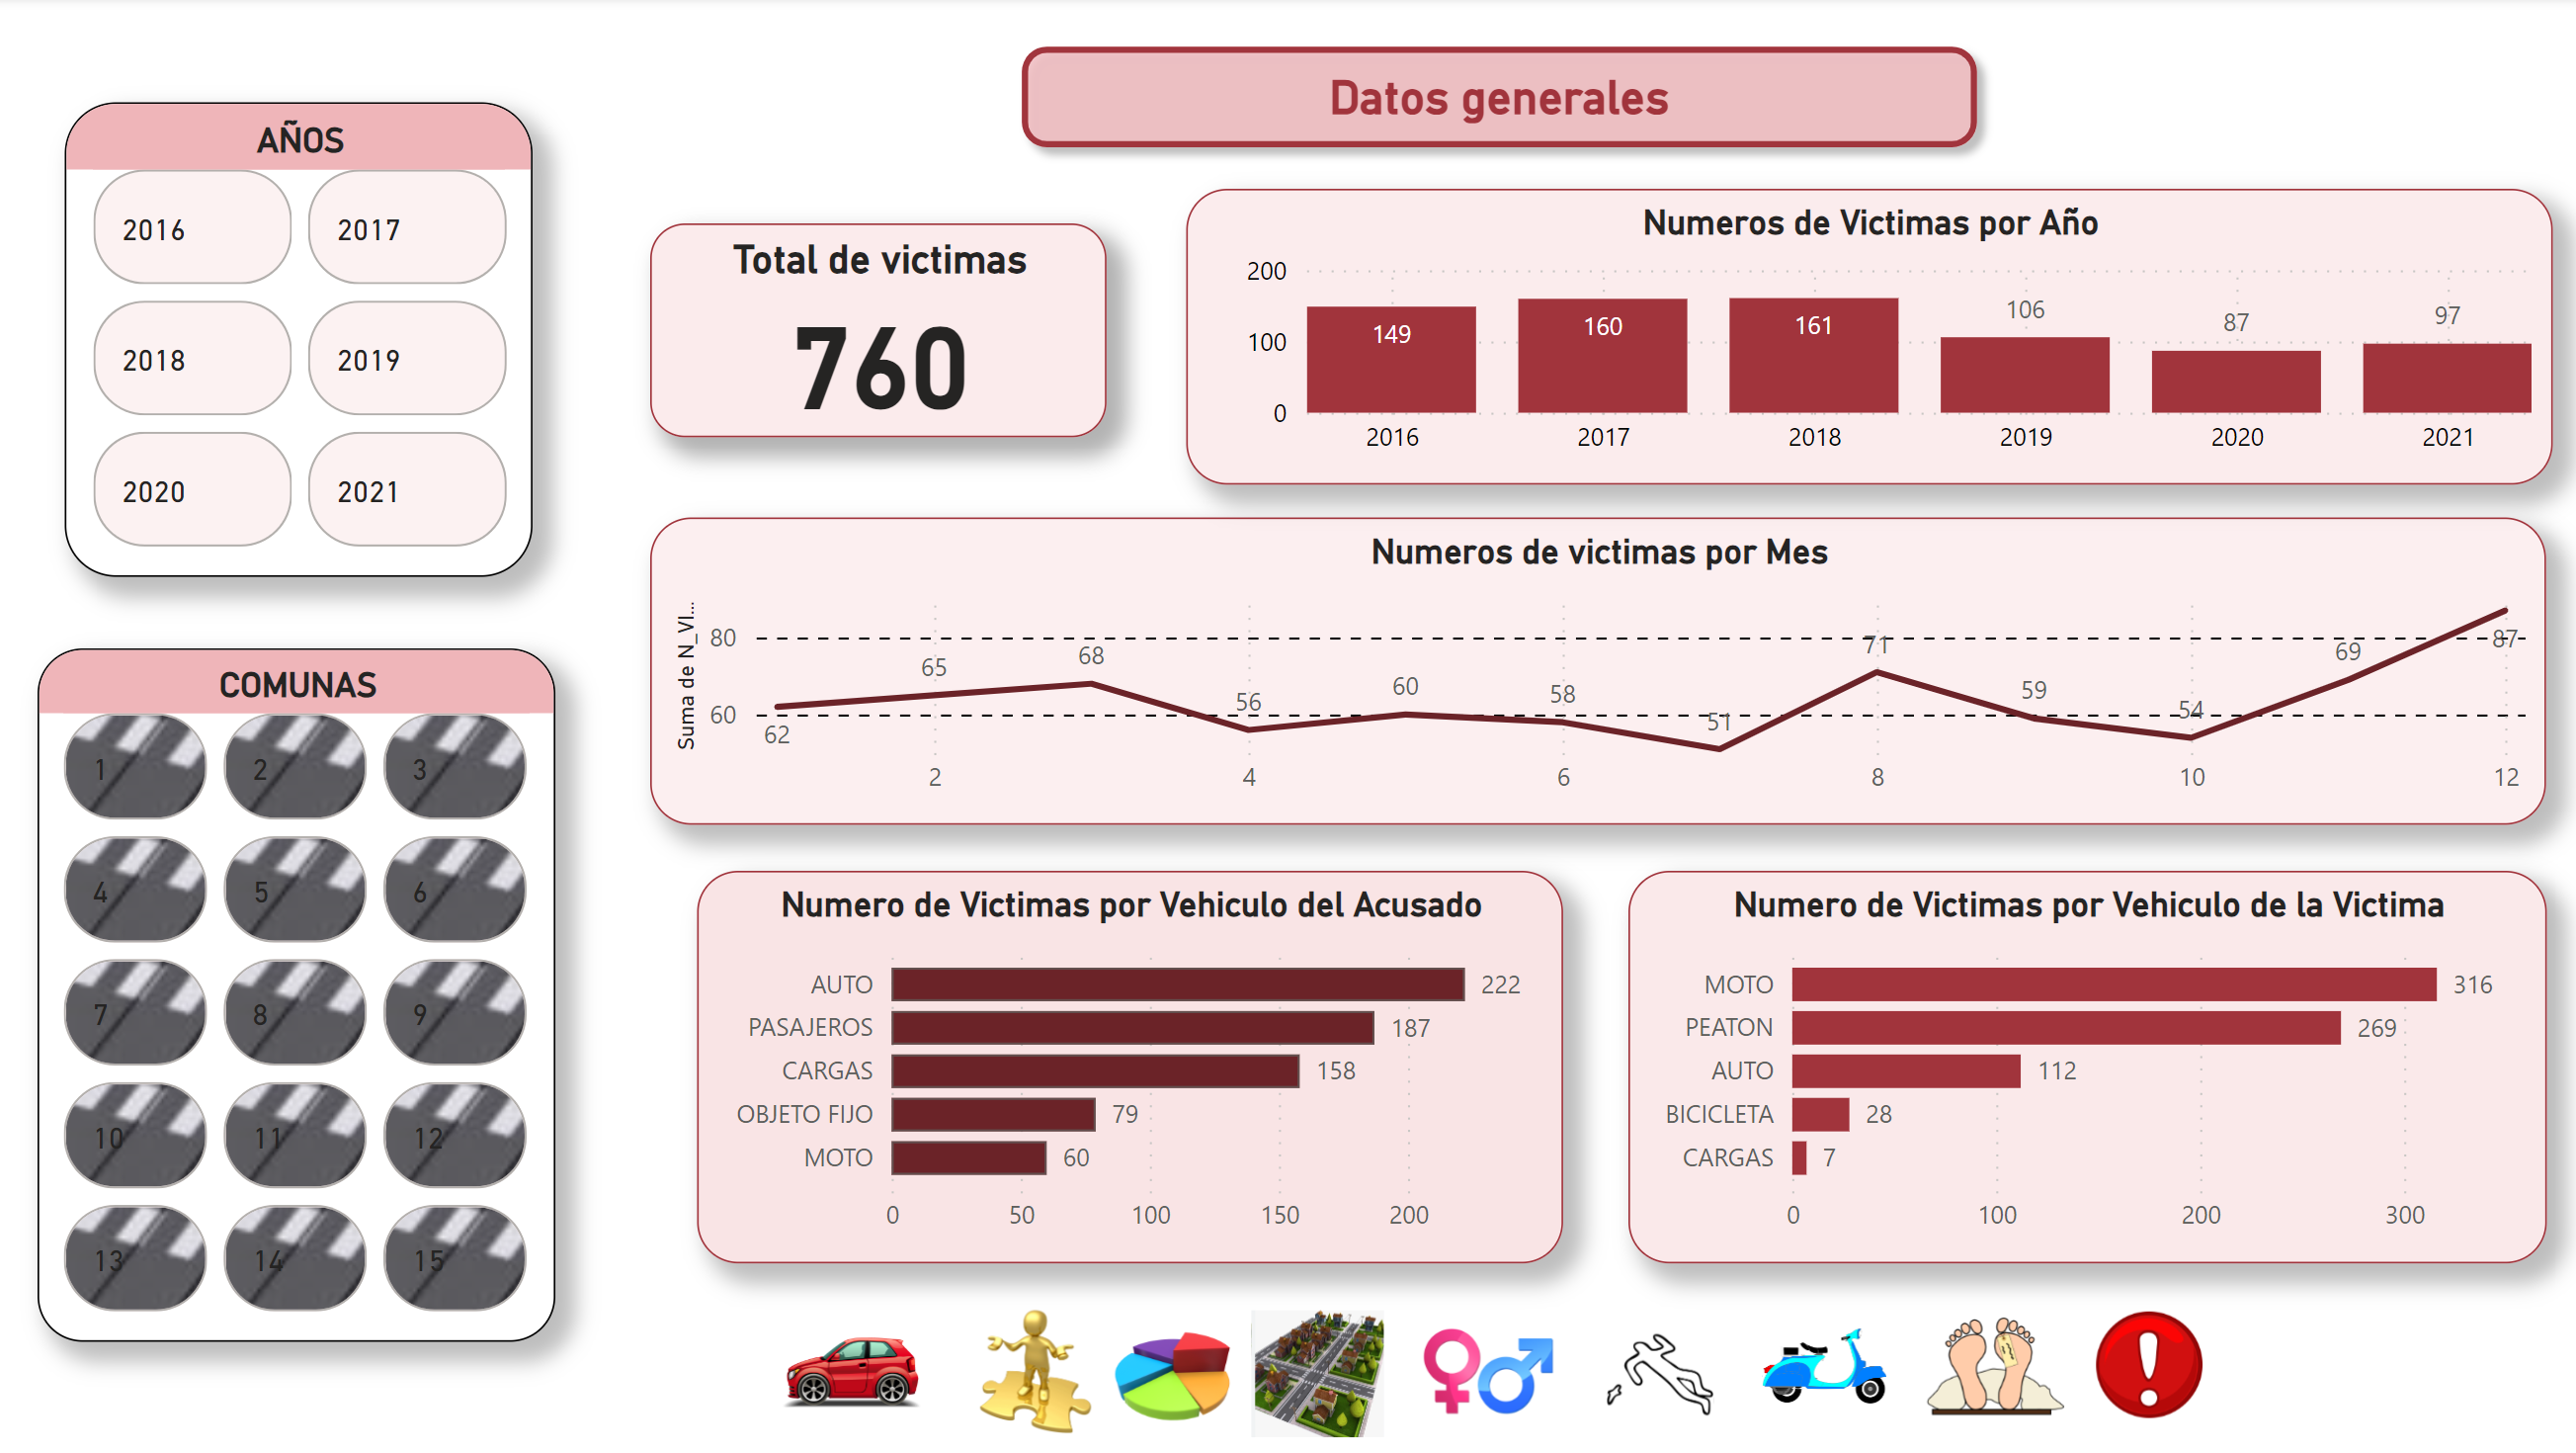

The dashboard page shown, as its layout file describes it:
{"tool":"powerbi","page":{"name":"Graficas","canvas":[1280,720],"ordinal":2},"visuals":[{"type":"cardVisual","fields":{"Data":["CountNonNull(Homicidios_clean.N_VICTIMAS)"]},"box":[433,237.6,250.9,123],"z":0},{"type":"clusteredColumnChart","title":"Top 4 Vehiculo Victimas","fields":{"Category":["Homicidios_clean.ROL_VICTIMA"],"Y":["CountNonNull(Homicidios_clean.ID)"]},"box":[44.6,20.5,416.1,200.2],"z":1000},{"type":"pieChart","title":"Sexo","fields":{"Category":["Homicidios_clean.SEXO"],"Y":["Sum(Homicidios_clean.N_VICTIMAS)"]},"box":[483.2,20,233.8,201],"z":2000},{"type":"card","fields":{"Values":["Avg(Homicidios_clean.EDAD)"]},"box":[44.6,230.4,367.8,130.3],"z":3000},{"type":"columnChart","title":"Cantidad de Victimas por Año","fields":{"Y":["Sum(Homicidios_clean.N_VICTIMAS)"],"Category":["Homicidios_clean.FECHA.Variación.Jerarquía de fechas.Año"]},"box":[44.2,377.7,685.6,319.3],"z":4000},{"type":"clusteredBarChart","title":"Tipo de Acusado Top 4","fields":{"Category":["Homicidios_clean.ACUSADO"],"Y":["Sum(Homicidios_clean.N_VICTIMAS)"]},"box":[729.7,26.4,498.9,201.1],"z":5000},{"type":"clusteredColumnChart","title":"Victimas por mes","fields":{"Category":["Homicidios_clean.FECHA.Variación.Jerarquía de fechas.Mes"],"Y":["Sum(Homicidios_clean.N_VICTIMAS)"]},"box":[698.3,237.6,563.2,131.5],"z":6000},{"type":"donutChart","title":"Victimas por tipos de calle","fields":{"Category":["Homicidios_clean.TIPO_DE_CALLE"],"Y":["Sum(Homicidios_clean.N_VICTIMAS)"]},"box":[754,377.7,450.4,319.3],"z":7000},{"type":"actionButton","box":[0,0,45,51.9],"z":8000},{"type":"actionButton","box":[1228.6,6.6,51.6,39.6],"z":8001}]}

Visuals, with their boxes in screenshot pixels (x1, y1, x2, y2), scaled from the page's 1280x720 canvas onto the 2576x1453 screenshot:
cardVisual - CountNonNull(Homicidios_clean.N_VICTIMAS): <box>872,479,1376,727</box>
"Top 4 Vehiculo Victimas" clusteredColumnChart: <box>90,42,927,446</box>
"Sexo" pieChart: <box>972,41,1443,446</box>
card - Avg(Homicidios_clean.EDAD): <box>90,465,830,727</box>
"Cantidad de Victimas por Año" columnChart: <box>89,762,1468,1407</box>
"Tipo de Acusado Top 4" clusteredBarChart: <box>1468,53,2472,459</box>
"Victimas por mes" clusteredColumnChart: <box>1405,479,2538,745</box>
"Victimas por tipos de calle" donutChart: <box>1518,762,2424,1407</box>
actionButton: <box>0,0,91,105</box>
actionButton: <box>2472,13,2575,93</box>
